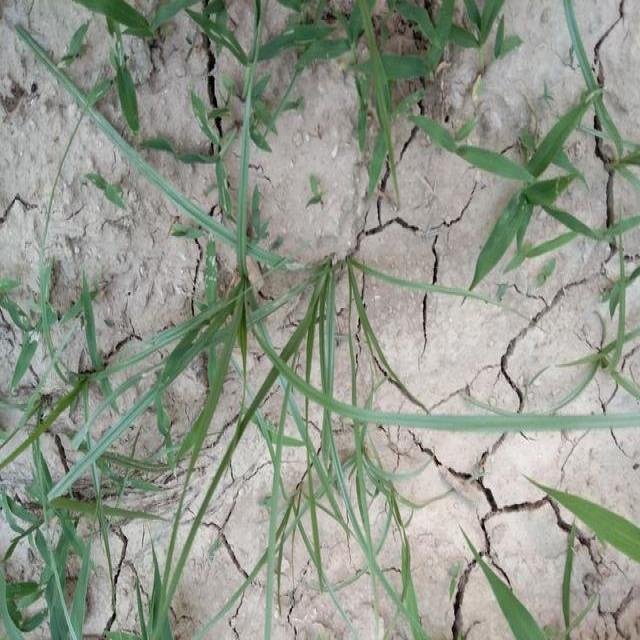weed: (113, 292, 416, 640), (110, 0, 534, 184), (25, 17, 278, 276), (0, 303, 117, 640), (183, 167, 324, 429), (282, 3, 490, 113), (477, 133, 607, 276), (467, 527, 559, 640), (538, 474, 640, 546), (567, 329, 638, 406)
